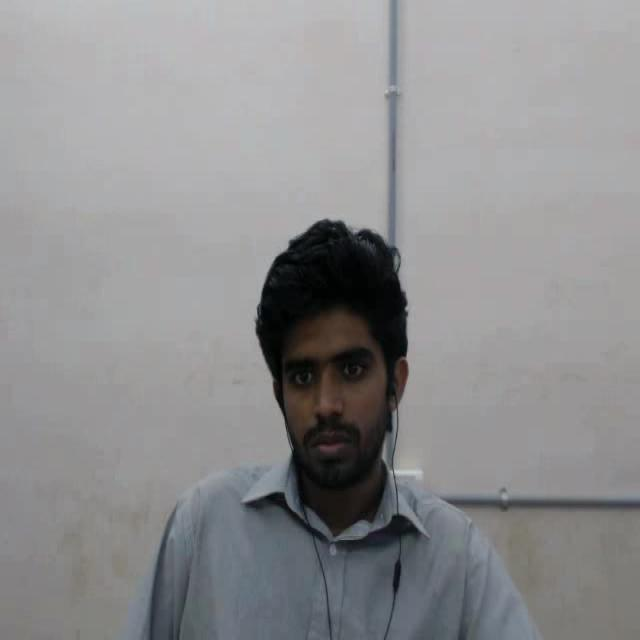Engaged: (225, 194, 447, 528)
